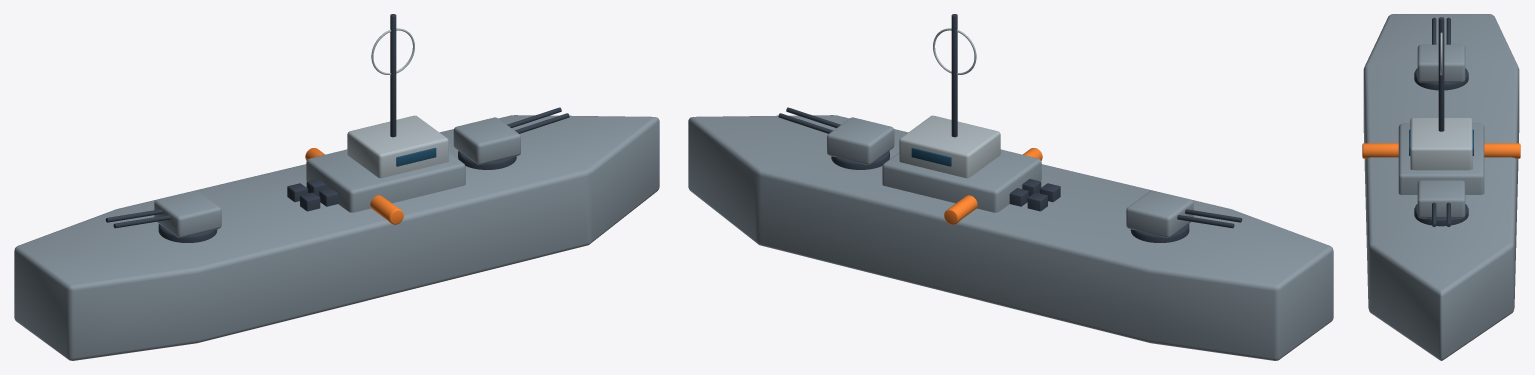
The model's file is destroyer.glb.
3 renders of one model, left to right at view 1: azimuth 30°, elevation 25°; view 2: azimuth 150°, elevation 25°; view 3: azimuth 270°, elevation 25°, orthographic. The views are drawn at different scales.
Visible parts, largest first — view 1: ASSET_destroyer; view 2: ASSET_destroyer; view 3: ASSET_destroyer.
Boxes of the visible parts, bbox=[...] form: ASSET_destroyer: bbox=[14, 14, 659, 360]; ASSET_destroyer: bbox=[688, 14, 1333, 360]; ASSET_destroyer: bbox=[1362, 14, 1520, 360].
Size of the model in its own units: 25.59 by 9.55 by 6.1.
